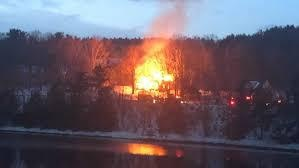fire: (118, 38, 179, 98)
